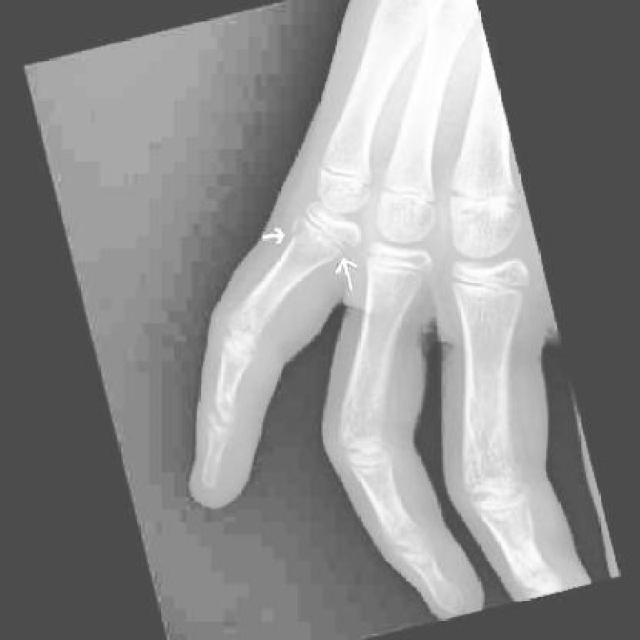Fracture: (280, 208, 353, 270)
